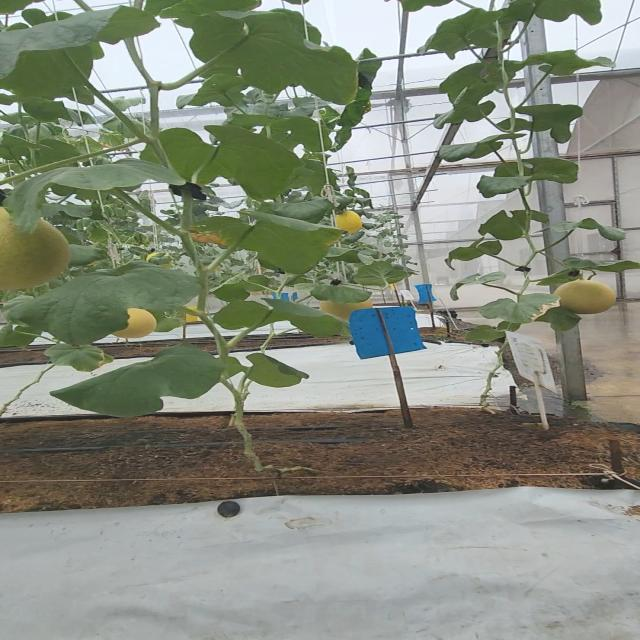Front-melon: (0, 221, 73, 290)
Rear-melon: (557, 282, 620, 314), (130, 311, 162, 338), (342, 215, 364, 232)
